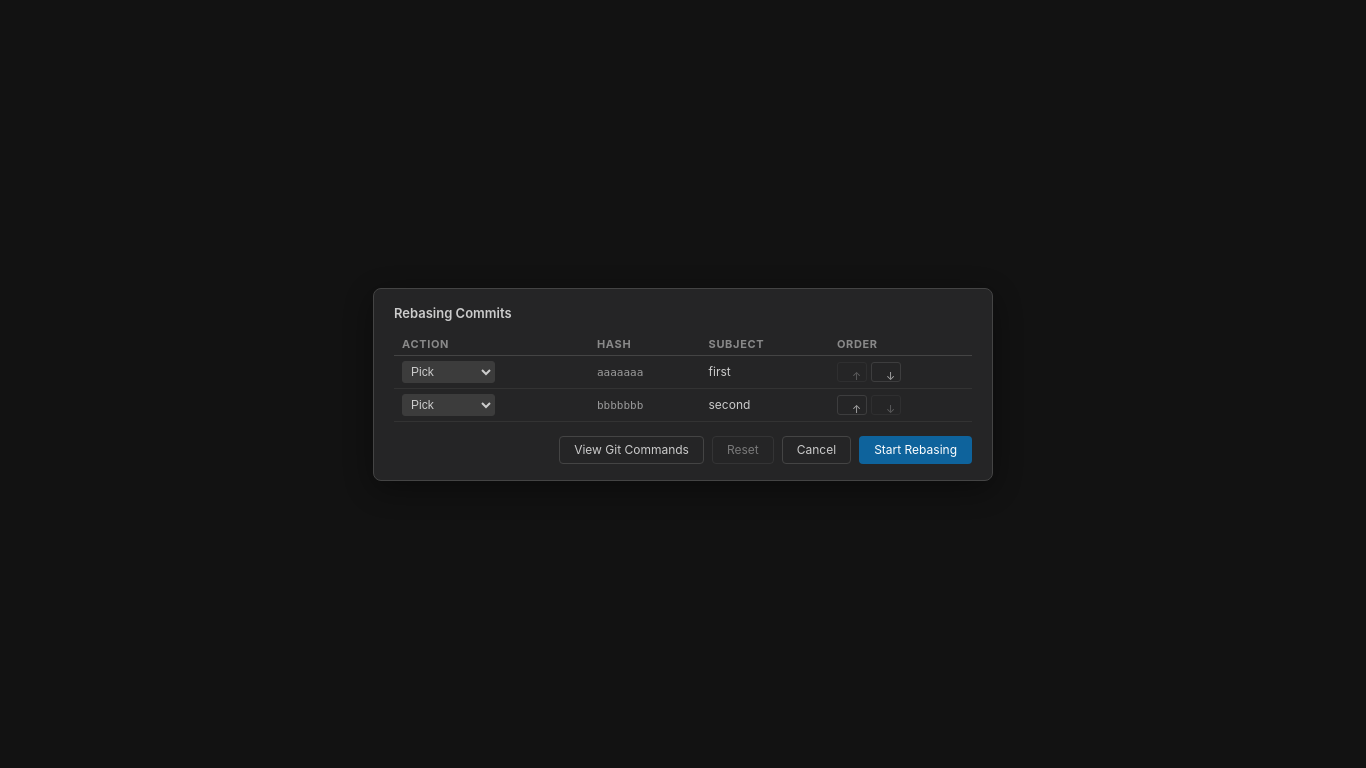
it: InteractiveRebaseDialog › refuses to start when the first row folds upward
The width and height of the screenshot is (1366, 768).
Expected: the text "first" is shown, left=708, top=364, right=731, bottom=379
Select "Squash" in the dropdown named "Action for aaaaaaa". click: (448, 372)
box: left=402, top=360, right=495, bottom=382
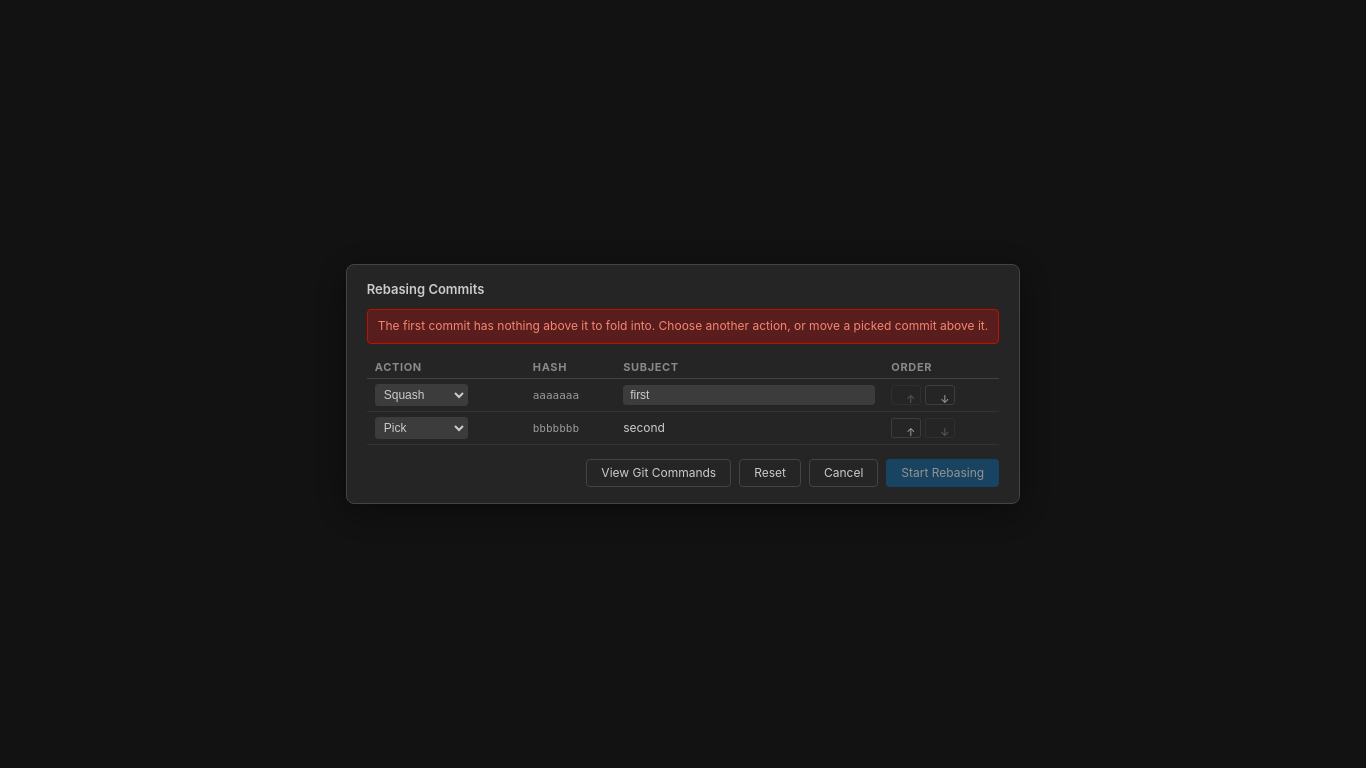
Expected: the button "Start Rebasing" is disabled, left=886, top=459, right=999, bottom=487
Expected: the text "nothing above it to fold into" is shown, left=378, top=318, right=988, bottom=333
